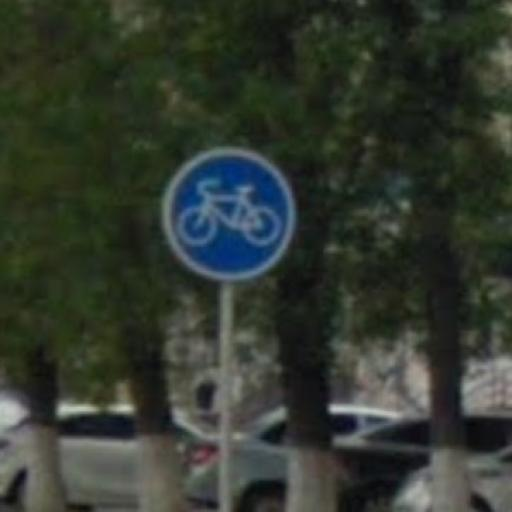traffic_sign: (161, 146, 302, 285)
